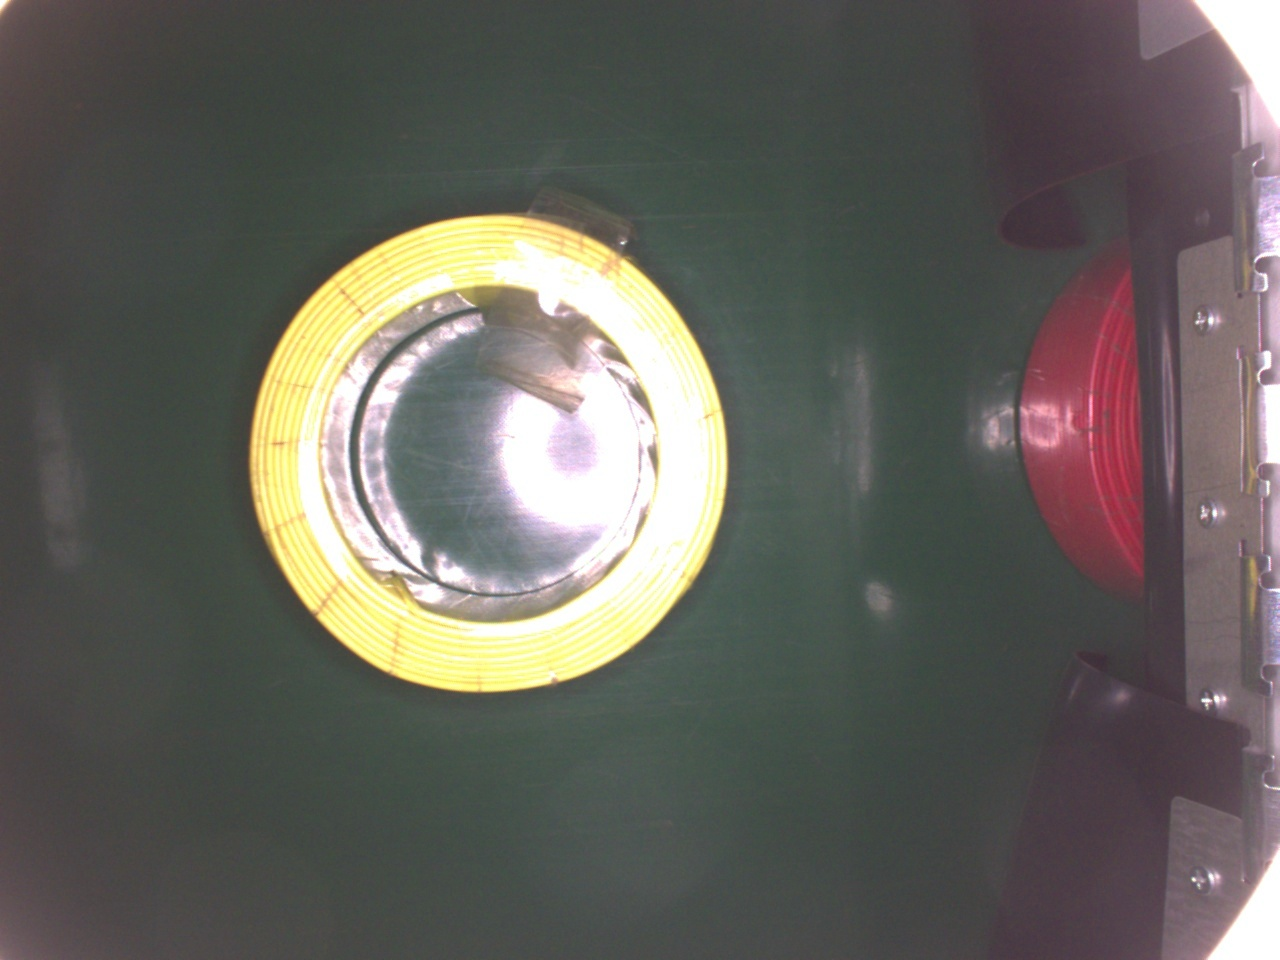red: (1015, 233, 1148, 598)
yellow: (240, 207, 725, 693)
